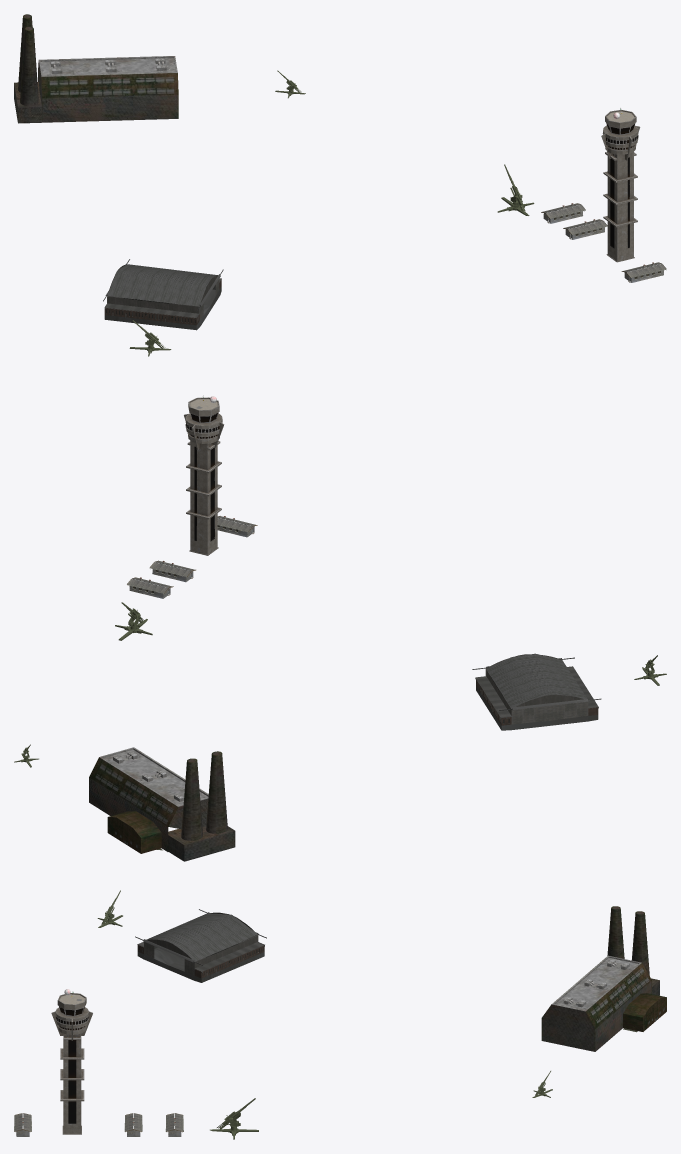
File: Birmingham.glb
The picture shows the model from 3 angles, top to bottom: view 1: azimuth 30°, elevation 25°; view 2: azimuth 150°, elevation 25°; view 3: azimuth 270°, elevation 25°; orthographic projection. The views are drawn at different scales.
Parts seen in each view (by area): view 1: defaultMaterial, Object_2, Tower_AirTower01MAT_0, Object_2.003, Object_2.001, Object_2.002; view 2: defaultMaterial, Object_2, Tower_AirTower01MAT_0; view 3: defaultMaterial, Object_2, Tower_AirTower01MAT_0, Asset Flak.002, Object_2.002, Object_2.003, Object_2.001.
Boxes of the visible parts, x1,y1,x2,y2 form: defaultMaterial: (14, 14, 178, 123); Object_2: (103, 259, 223, 330); Tower_AirTower01MAT_0: (601, 108, 640, 262); Object_2.003: (541, 203, 585, 223); Object_2.001: (621, 262, 666, 282); Object_2.002: (563, 219, 607, 239); defaultMaterial: (89, 747, 235, 861); Object_2: (472, 653, 601, 730); Tower_AirTower01MAT_0: (184, 395, 224, 555); defaultMaterial: (541, 906, 666, 1051); Object_2: (135, 909, 266, 982); Tower_AirTower01MAT_0: (51, 989, 92, 1134); Asset Flak.002: (210, 1098, 258, 1139); Object_2.002: (124, 1113, 142, 1136); Object_2.003: (165, 1113, 183, 1136); Object_2.001: (14, 1113, 31, 1136).
Bounding box in the file's own units: 202 × 67.39 × 251.
Materials: 12 (6 with a texture image).
